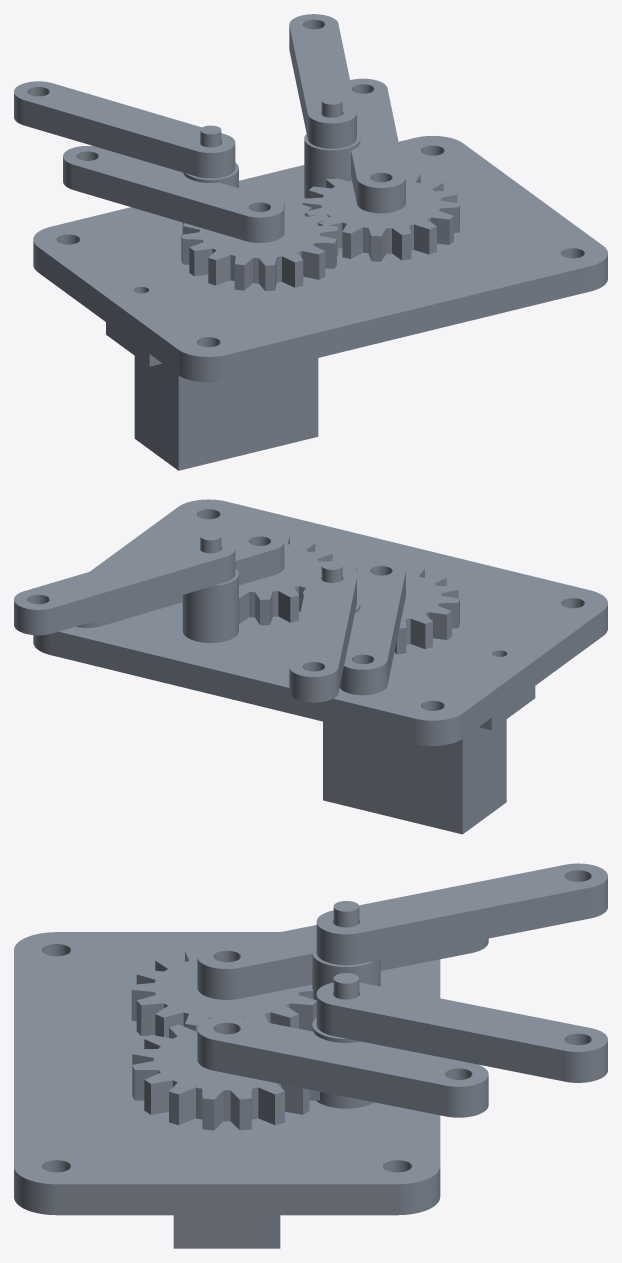
Rendered from step-4.glb.
3 renders of one model, top to bottom at view 1: azimuth 30°, elevation 25°; view 2: azimuth 150°, elevation 25°; view 3: azimuth 270°, elevation 25°, orthographic. The views are drawn at different scales.
Visible parts, largest first — view 1: face_2266b7da4a20d69a9369, face_587b5f540bef7b1a8fe7, face_90e705d0b79c586715c6, face_75d006a8ca76424f0d15, face_2648c6eeb753a05753f9, face_8add1dd256dd1ca6575a, face_b45300e8bf96d87e63eb, face_9dccf597f6403a918746, face_6d481bd5ef52b28ecf3b, face_420132dd464f2ad33996, face_a6bdd665ad03e92fe804, face_af3e0bfc63ac36b18648 (+6 smaller); view 2: face_2266b7da4a20d69a9369, face_fc6b88b5daad128f4f4d, face_1713bfa9cd2cdc202364, face_b45300e8bf96d87e63eb, face_2648c6eeb753a05753f9, face_492090802049364cce1e, face_75d006a8ca76424f0d15, face_8add1dd256dd1ca6575a, face_a6bdd665ad03e92fe804, face_af3e0bfc63ac36b18648, face_70d3a566140d2232f48f, face_6068085e1004f636950e (+8 smaller); view 3: face_2266b7da4a20d69a9369, face_4eaf18a6b39c55dc2bdb, face_75d006a8ca76424f0d15, face_3d240aec0a6e9970624b, face_07b68d97221456826081, face_4f8a42ae645d510d0579, face_b45300e8bf96d87e63eb, face_2648c6eeb753a05753f9, face_420132dd464f2ad33996, face_031fd7391f5aafb7ffc9, face_17258b334b18a0ba5d7c, face_8add1dd256dd1ca6575a (+15 smaller).
Boxes of the visible parts, x1,y1,x2,y2 form: face_2266b7da4a20d69a9369: (33, 135, 607, 356); face_587b5f540bef7b1a8fe7: (149, 354, 318, 470); face_90e705d0b79c586715c6: (226, 266, 590, 380); face_75d006a8ca76424f0d15: (181, 172, 459, 265); face_2648c6eeb753a05753f9: (14, 81, 235, 152); face_8add1dd256dd1ca6575a: (63, 146, 284, 217); face_b45300e8bf96d87e63eb: (289, 14, 356, 123); face_9dccf597f6403a918746: (24, 100, 196, 176); face_6d481bd5ef52b28ecf3b: (73, 165, 245, 240); face_420132dd464f2ad33996: (350, 78, 405, 187); face_a6bdd665ad03e92fe804: (134, 356, 178, 470); face_af3e0bfc63ac36b18648: (38, 247, 178, 374); face_2266b7da4a20d69a9369: (59, 499, 607, 720); face_fc6b88b5daad128f4f4d: (323, 718, 491, 834); face_1713bfa9cd2cdc202364: (51, 631, 415, 743); face_b45300e8bf96d87e63eb: (14, 539, 235, 609); face_2648c6eeb753a05753f9: (289, 569, 356, 676); face_492090802049364cce1e: (52, 557, 224, 633); face_75d006a8ca76424f0d15: (221, 534, 459, 628); face_8add1dd256dd1ca6575a: (344, 560, 405, 669); face_a6bdd665ad03e92fe804: (462, 719, 506, 833); face_af3e0bfc63ac36b18648: (463, 611, 603, 738); face_70d3a566140d2232f48f: (182, 575, 238, 642); face_6068085e1004f636950e: (101, 550, 273, 625); face_2266b7da4a20d69a9369: (14, 932, 440, 1184); face_4eaf18a6b39c55dc2bdb: (56, 1184, 397, 1215); face_75d006a8ca76424f0d15: (131, 949, 316, 1099); face_3d240aec0a6e9970624b: (333, 1005, 565, 1081); face_07b68d97221456826081: (214, 1040, 446, 1116); face_4f8a42ae645d510d0579: (359, 887, 590, 963); face_b45300e8bf96d87e63eb: (316, 982, 607, 1051); face_2648c6eeb753a05753f9: (316, 863, 607, 934); face_420132dd464f2ad33996: (197, 1016, 488, 1086); face_031fd7391f5aafb7ffc9: (173, 1215, 280, 1248); face_17258b334b18a0ba5d7c: (239, 942, 471, 998); face_8add1dd256dd1ca6575a: (197, 925, 316, 968).
Bounding box in the file's own units: 0.07 × 0.0415 × 0.0697.
